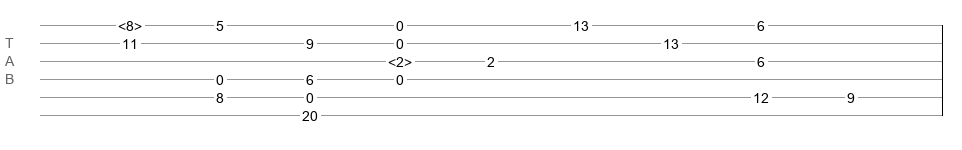0: (216, 72, 224, 82), (306, 90, 314, 100), (396, 18, 404, 28), (396, 36, 404, 46), (396, 72, 404, 82)
11: (122, 36, 138, 46)
12: (753, 90, 769, 100)
13: (573, 18, 589, 28), (663, 36, 679, 46)
2: (487, 54, 495, 64)
20: (302, 108, 318, 118)
5: (216, 18, 224, 28)
6: (306, 72, 314, 82), (757, 18, 765, 28), (757, 54, 765, 64)
8: (216, 90, 224, 100)
9: (306, 36, 314, 46), (847, 90, 855, 100)
harmonic: (118, 18, 142, 28), (388, 54, 412, 64)
